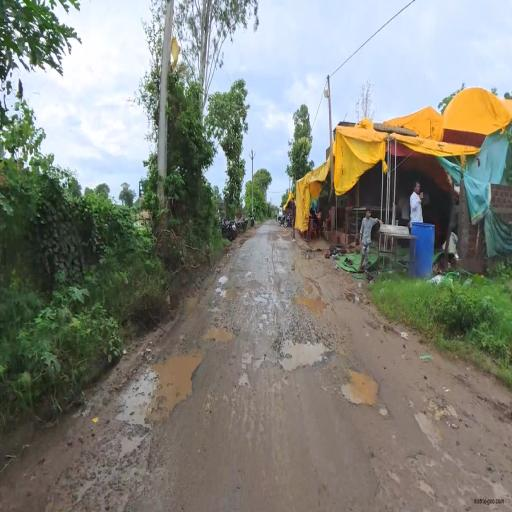pothole: (132, 337, 218, 442), (267, 305, 337, 403), (336, 349, 386, 439)
ravelling: (62, 424, 168, 508)
